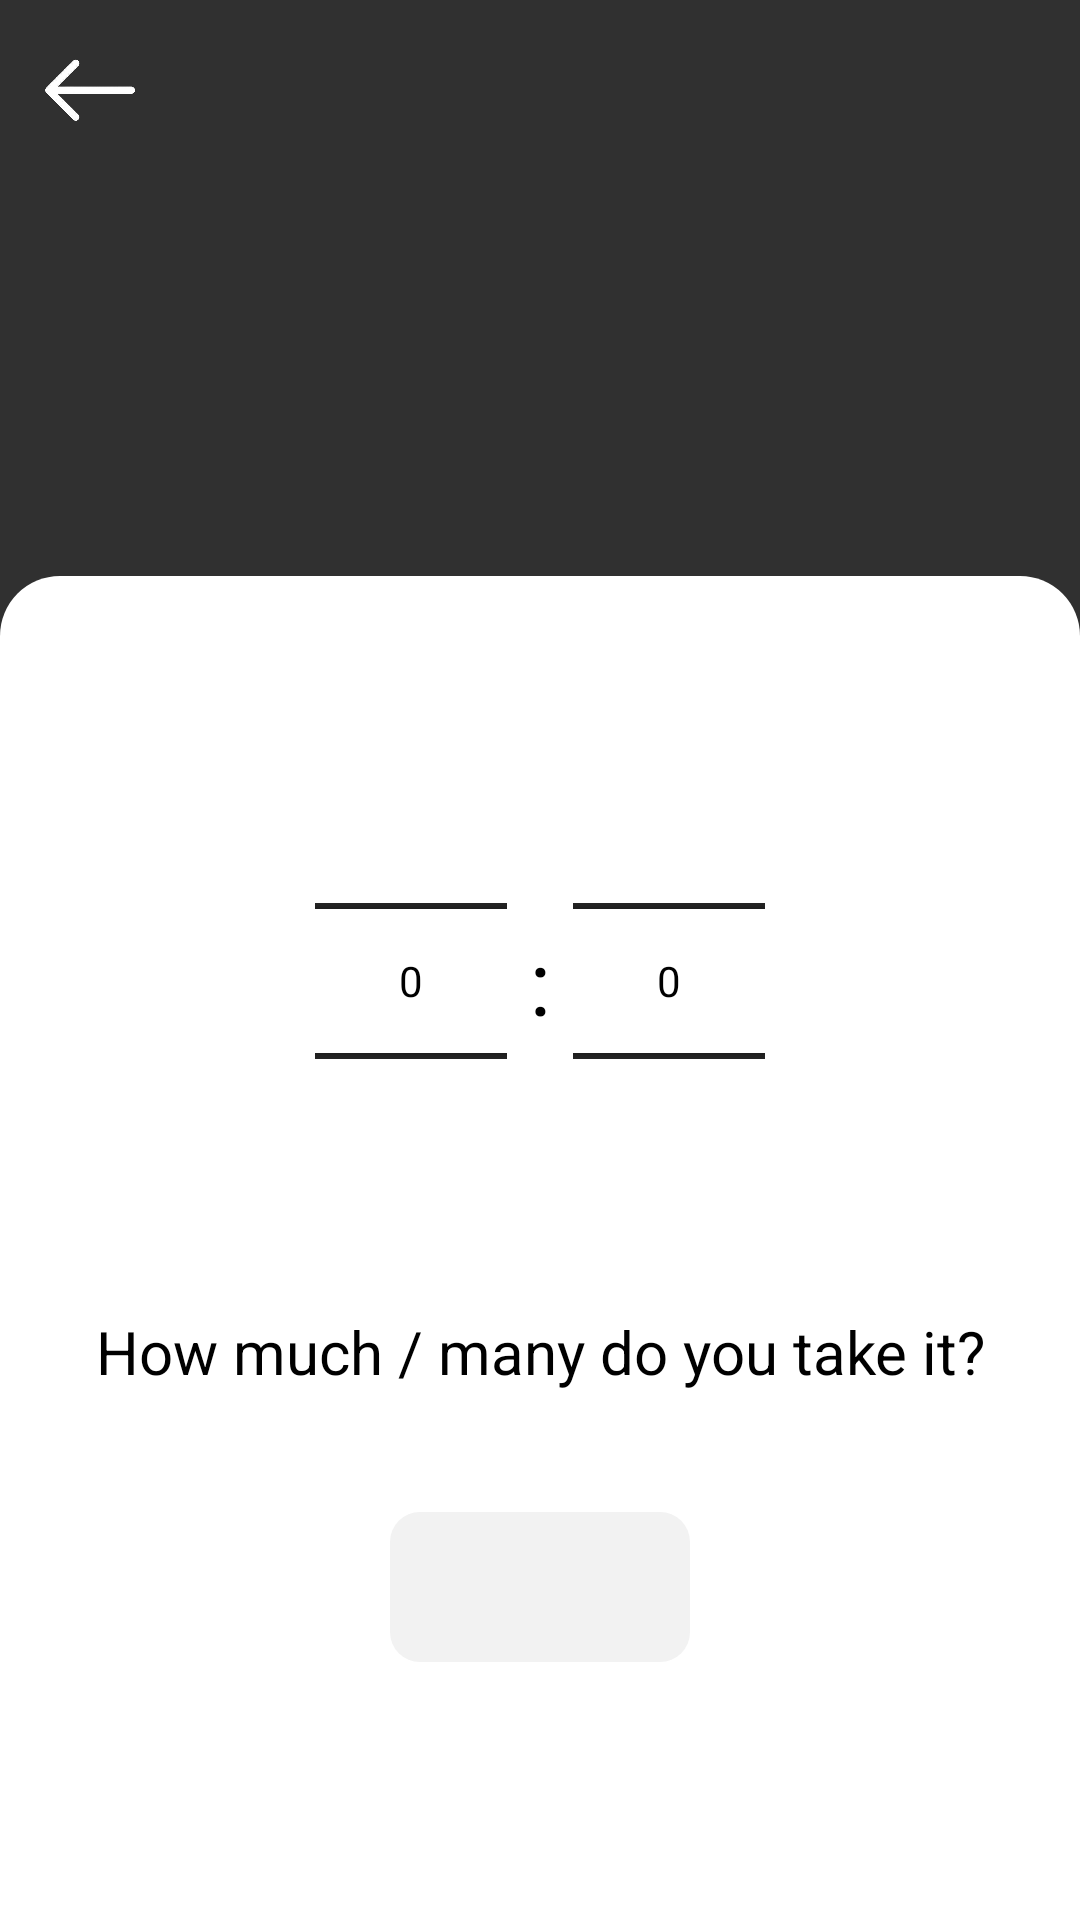

Icon bounding boxes for this 1080px x 1920px phone screenshot, format (x1, y1, x2, y2):
back: (45, 59, 135, 121)
